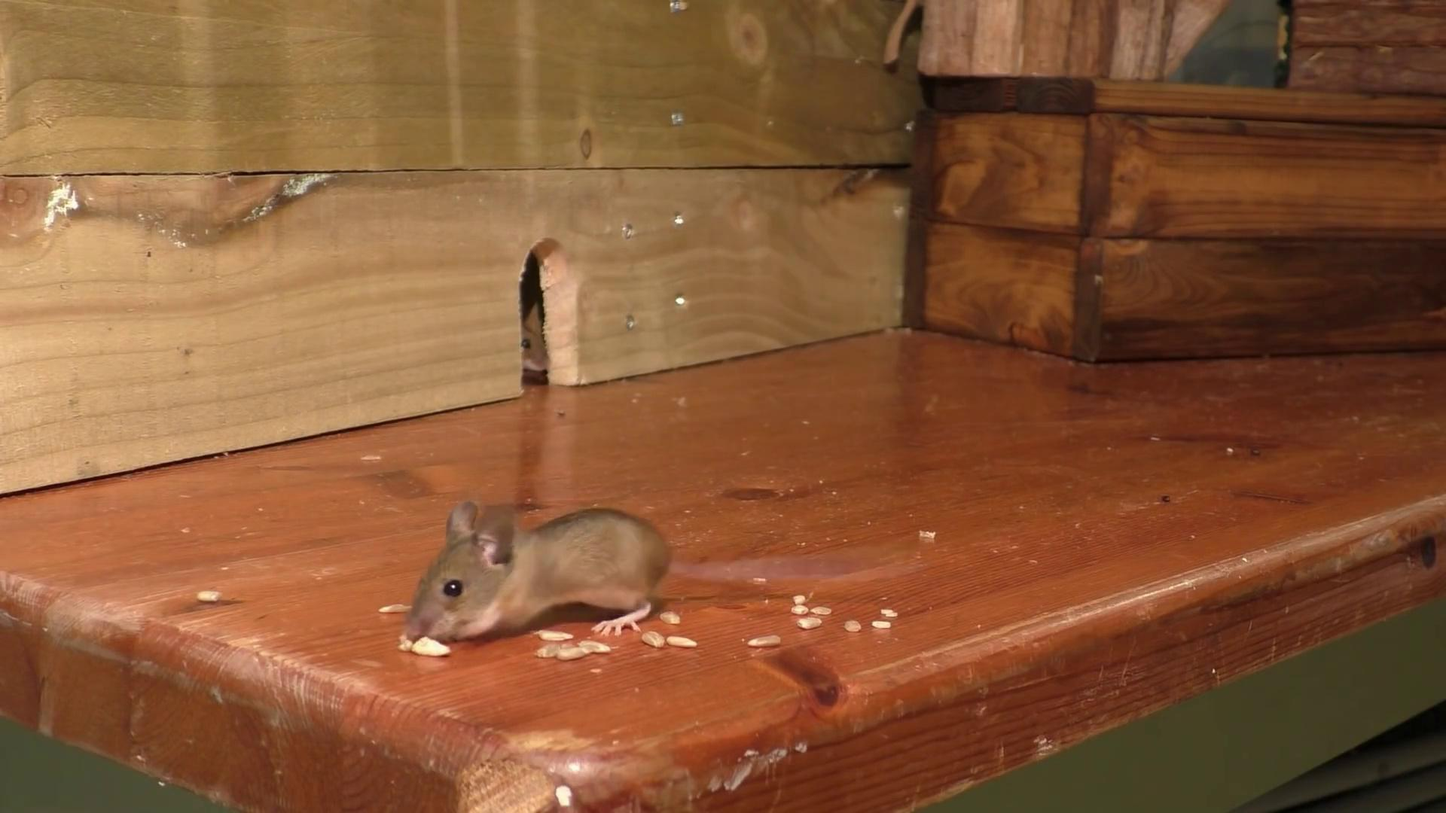rat: (404, 499, 920, 644), (520, 303, 551, 373)
